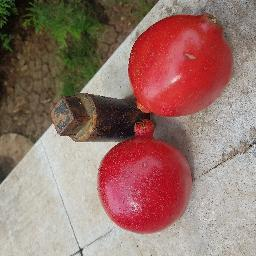Good_pomegranate: (86, 135, 202, 236), (134, 6, 233, 115)
